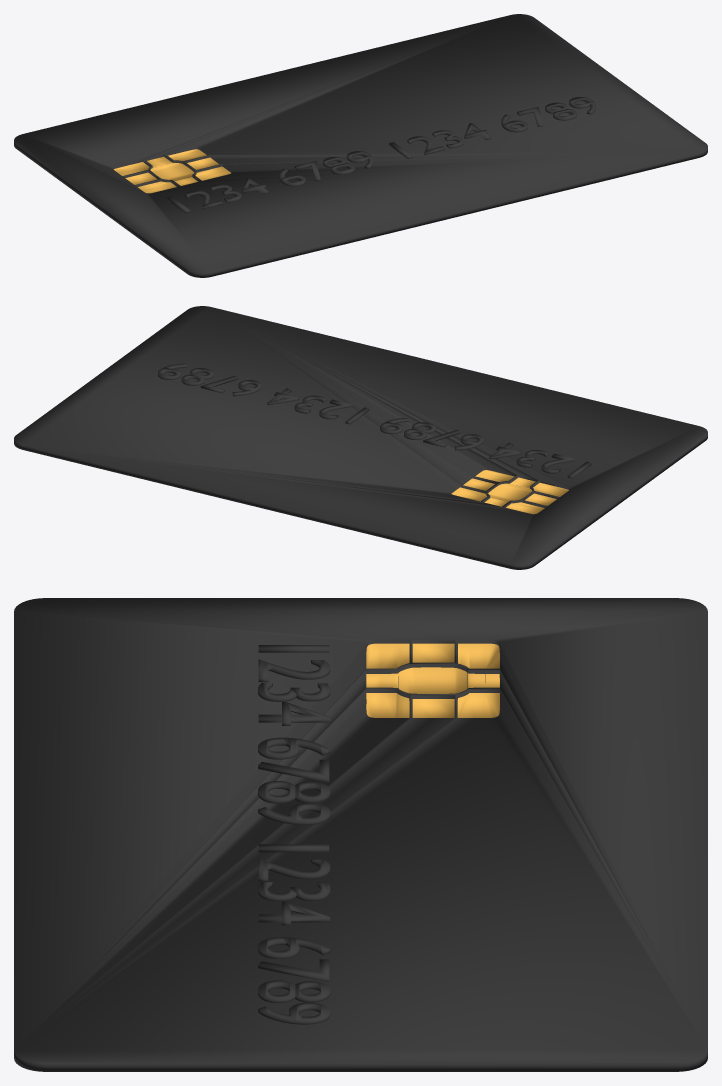
Rendered from a_platinum_credit_card.glb.
The picture shows the model from 3 angles, top to bottom: view 1: azimuth 30°, elevation 25°; view 2: azimuth 150°, elevation 25°; view 3: azimuth 270°, elevation 25°; orthographic projection. The views are drawn at different scales.
Parts seen in each view (by area): view 1: Cube, Text; view 2: Cube, Text; view 3: Cube, Text.
Part boxes in pixels (<box>): Cube: <box>14,14,707,277</box>; Text: <box>166,97,595,213</box>; Cube: <box>14,306,707,569</box>; Text: <box>158,363,591,478</box>; Cube: <box>14,598,707,1071</box>; Text: <box>258,645,330,1024</box>.
Bounding box in the file's own units: 17.12 × 0.2141 × 10.8.
